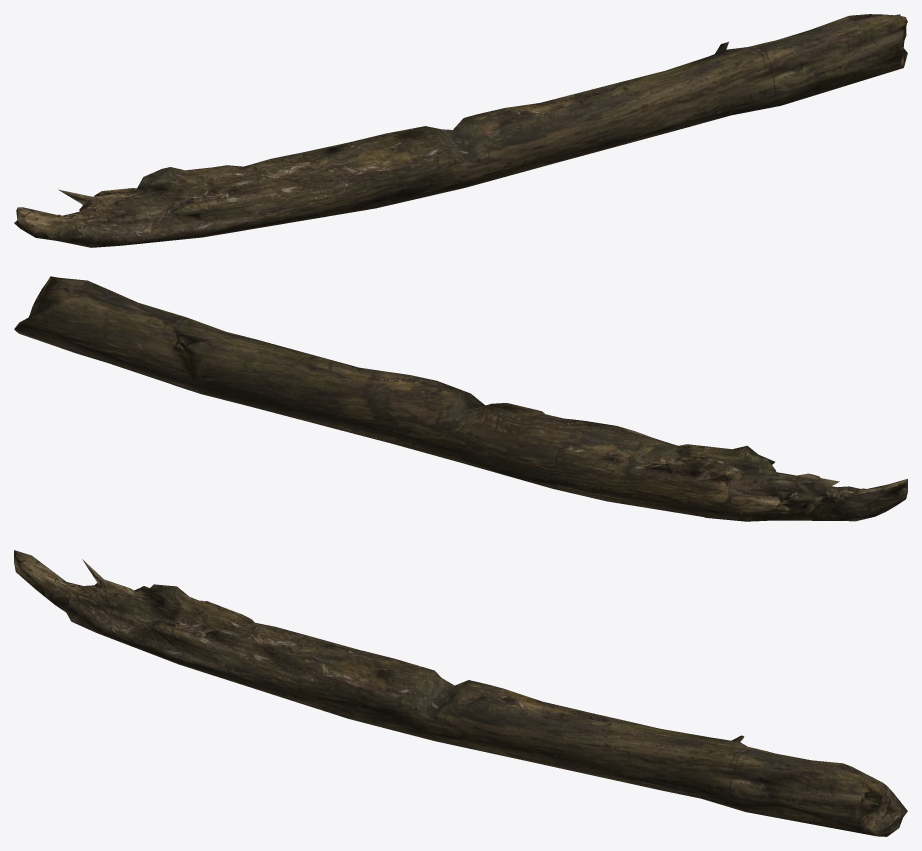
Rendered from log.glb.
The picture shows the model from 3 angles, top to bottom: view 1: azimuth 30°, elevation 25°; view 2: azimuth 150°, elevation 25°; view 3: azimuth 330°, elevation 25°; orthographic projection.
Visible parts, largest first — view 1: dead_tree_trunk; view 2: dead_tree_trunk; view 3: dead_tree_trunk.
Boxes of the visible parts, x1=… form: dead_tree_trunk: x1=14, y1=14, x2=907, y2=247; dead_tree_trunk: x1=14, y1=276, x2=907, y2=521; dead_tree_trunk: x1=14, y1=550, x2=907, y2=836.
Size of the model in its own units: 3.8 by 0.3585 by 0.34.
Materials: 1 (1 with a texture image).
